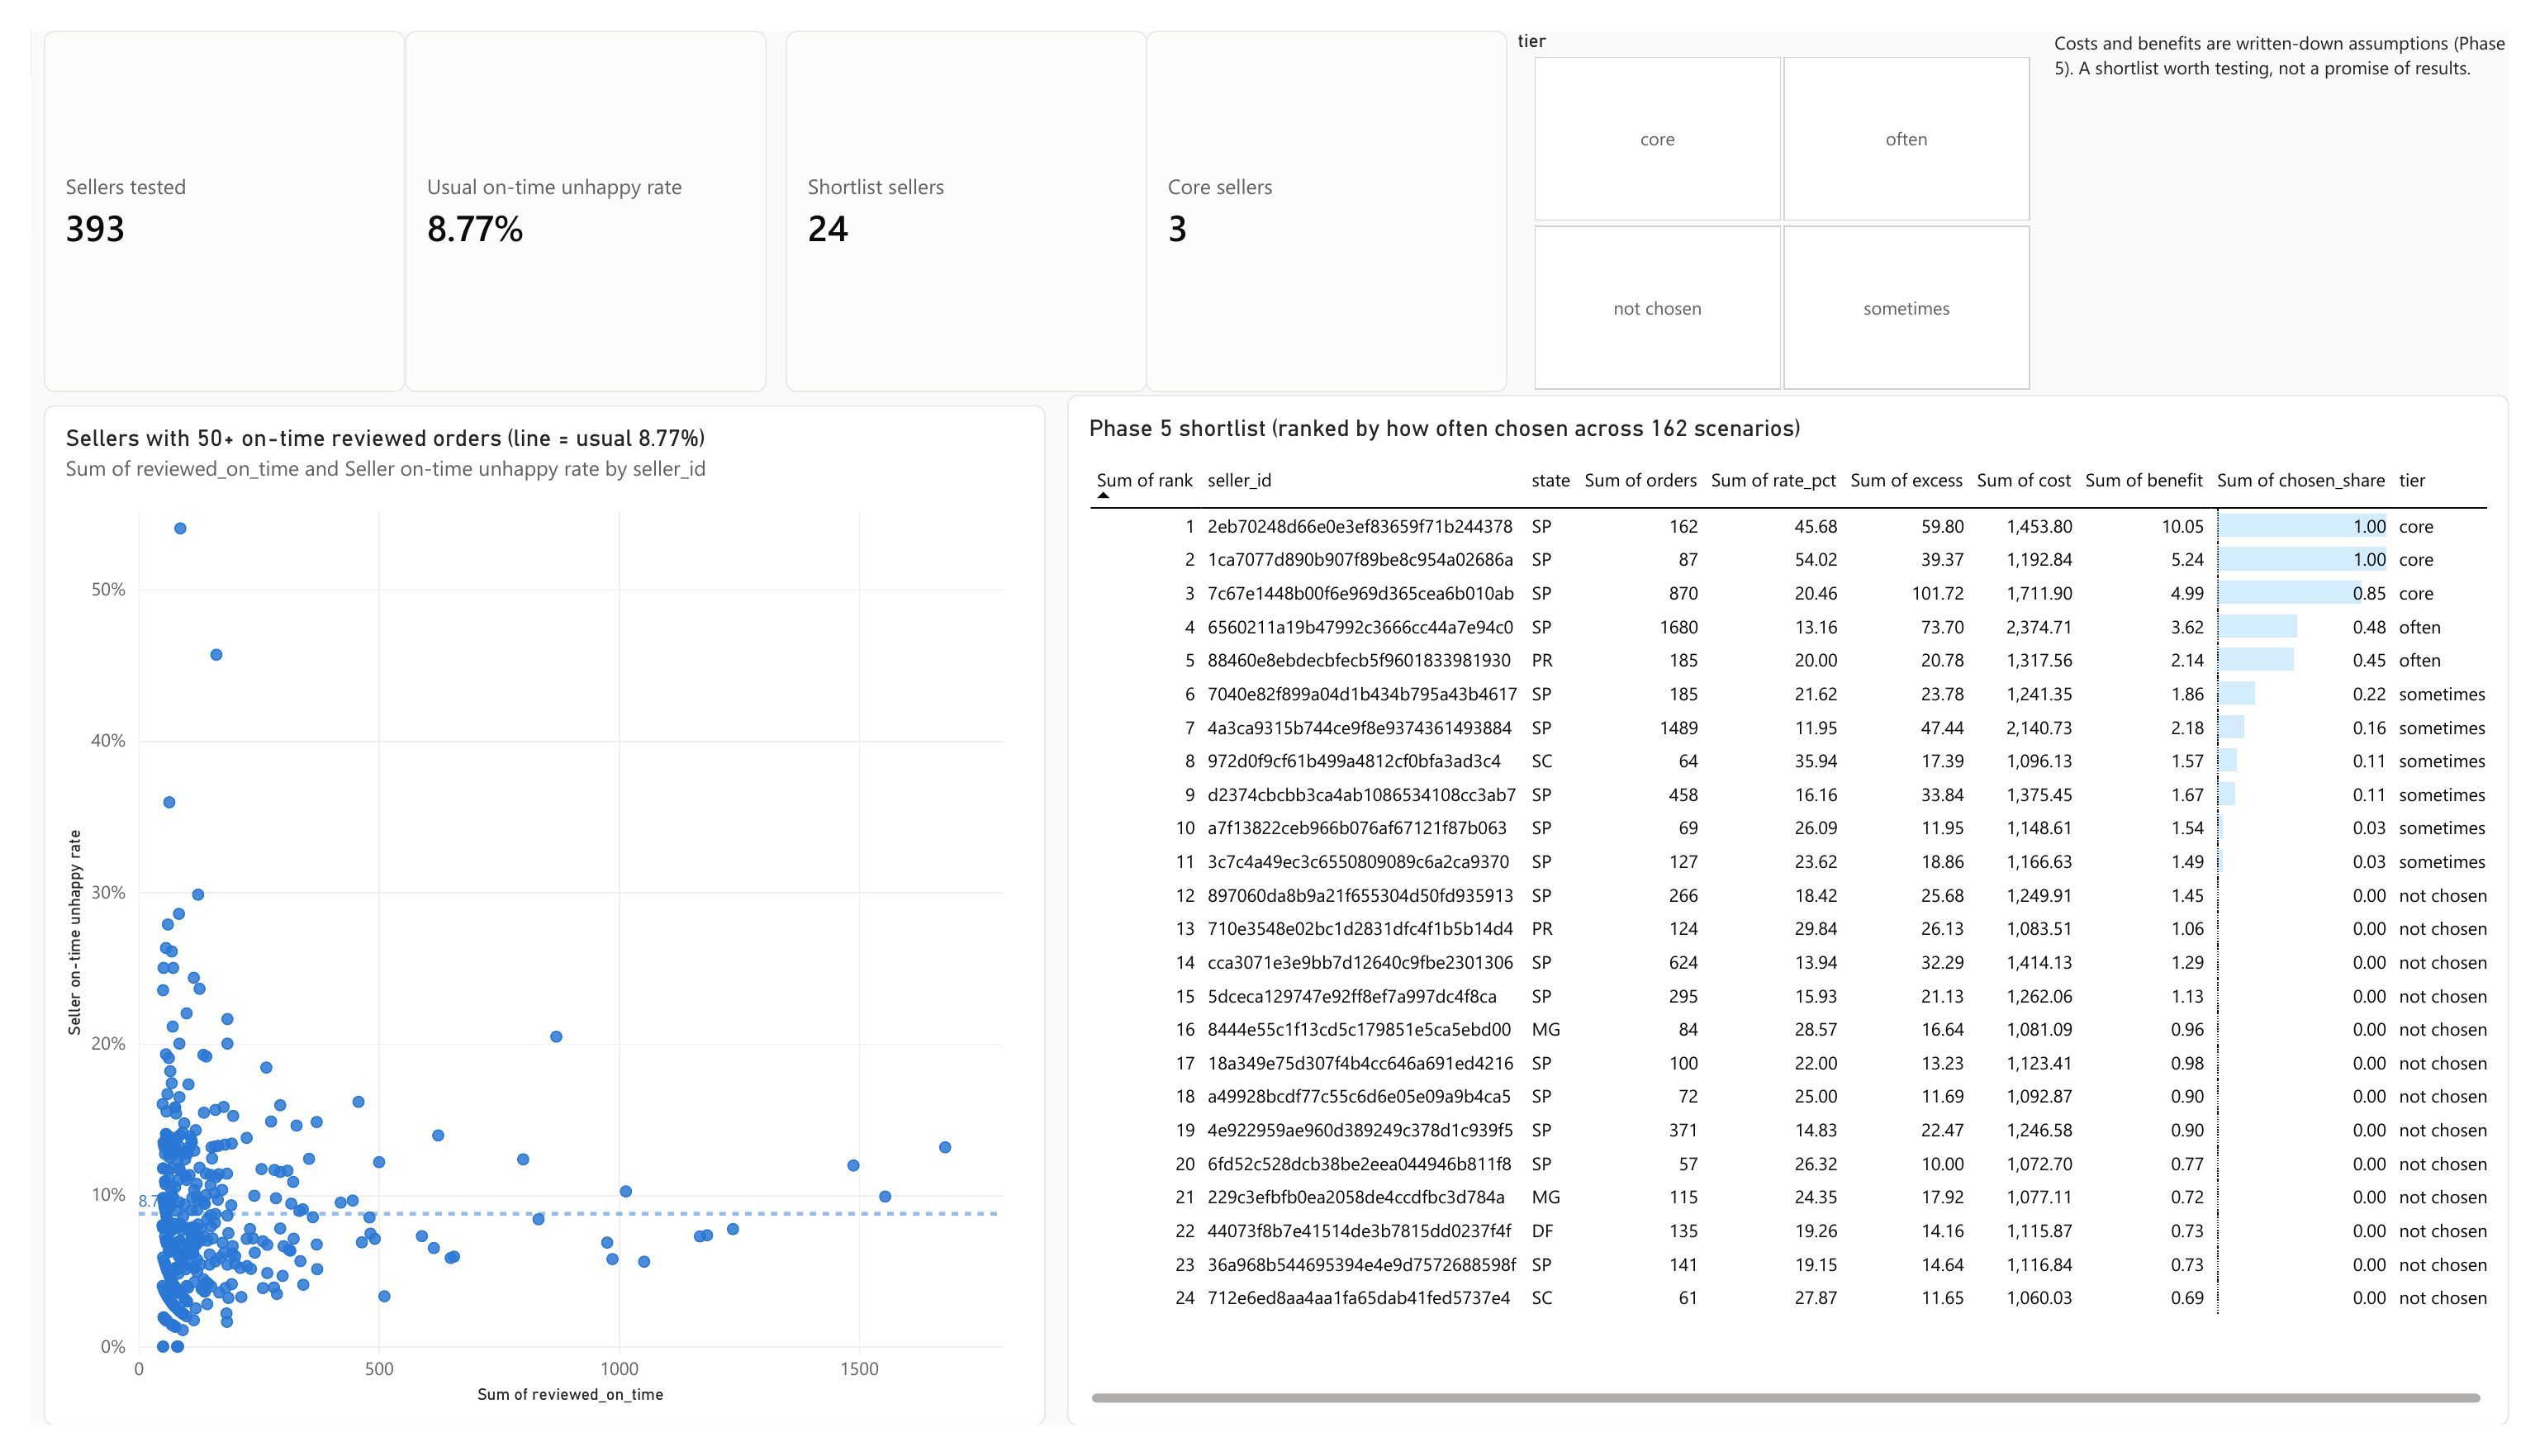

Layout of this report page (visuals, bound fields, positions):
{"tool":"powerbi","page":{"name":"Sellers","canvas":[1920,1080],"ordinal":2},"visuals":[{"type":"cardVisual","fields":{"Data":["sellers.Sellers tested"]},"box":[10,0,280,280],"z":0},{"type":"cardVisual","fields":{"Data":["sellers.Usual on-time unhappy rate"]},"box":[290.2,0,280,280],"z":1000},{"type":"cardVisual","fields":{"Data":["shortlist.Shortlist sellers"]},"box":[584.6,0,280,280],"z":2000},{"type":"cardVisual","fields":{"Data":["shortlist.Core sellers"]},"box":[864.5,0,280,280],"z":3000},{"type":"scatterChart","title":"Sellers with 50+ on-time reviewed orders (line = usual 8.77%)","fields":{"Category":["sellers.seller_id"],"X":["sellers.reviewed_on_time"],"Y":["sellers.Seller on-time unhappy rate"]},"box":[10.3,290.2,776,790.4],"z":4000},{"type":"tableEx","title":"Phase 5 shortlist (ranked by how often chosen across 162 scenarios)","fields":{"Values":["Sum(shortlist.rank)","shortlist.seller_id","shortlist.state","Sum(shortlist.orders)","Sum(shortlist.rate_pct)","Sum(shortlist.excess)","Sum(shortlist.cost)","Sum(shortlist.benefit)","Sum(shortlist.chosen_share)","shortlist.tier"]},"box":[802.7,282,1117.7,798.6],"z":5000},{"type":"slicer","fields":{"Values":["shortlist.tier"]},"box":[1144.4,0,424,279.9],"z":6000},{"type":"textbox","box":[1568,0,352,280],"z":7000}]}

Visuals, with their boxes on the page's 1920x1080 design canvas (x1, y1, x2, y2). These are canvas units, not pixel positions in the 2540x1456 screenshot, which may show the page scaled, cropped or inside an application window:
cardVisual - sellers.Sellers tested: pyautogui.locateOnScreen(10, 0, 290, 280)
cardVisual - sellers.Usual on-time unhappy rate: pyautogui.locateOnScreen(290, 0, 570, 280)
cardVisual - shortlist.Shortlist sellers: pyautogui.locateOnScreen(585, 0, 865, 280)
cardVisual - shortlist.Core sellers: pyautogui.locateOnScreen(864, 0, 1144, 280)
"Sellers with 50+ on-time reviewed orders (line = usual 8.77%)" scatterChart: pyautogui.locateOnScreen(10, 290, 786, 1081)
"Phase 5 shortlist (ranked by how often chosen across 162 scenarios)" tableEx: pyautogui.locateOnScreen(803, 282, 1920, 1081)
slicer - shortlist.tier: pyautogui.locateOnScreen(1144, 0, 1568, 280)
textbox: pyautogui.locateOnScreen(1568, 0, 1920, 280)
